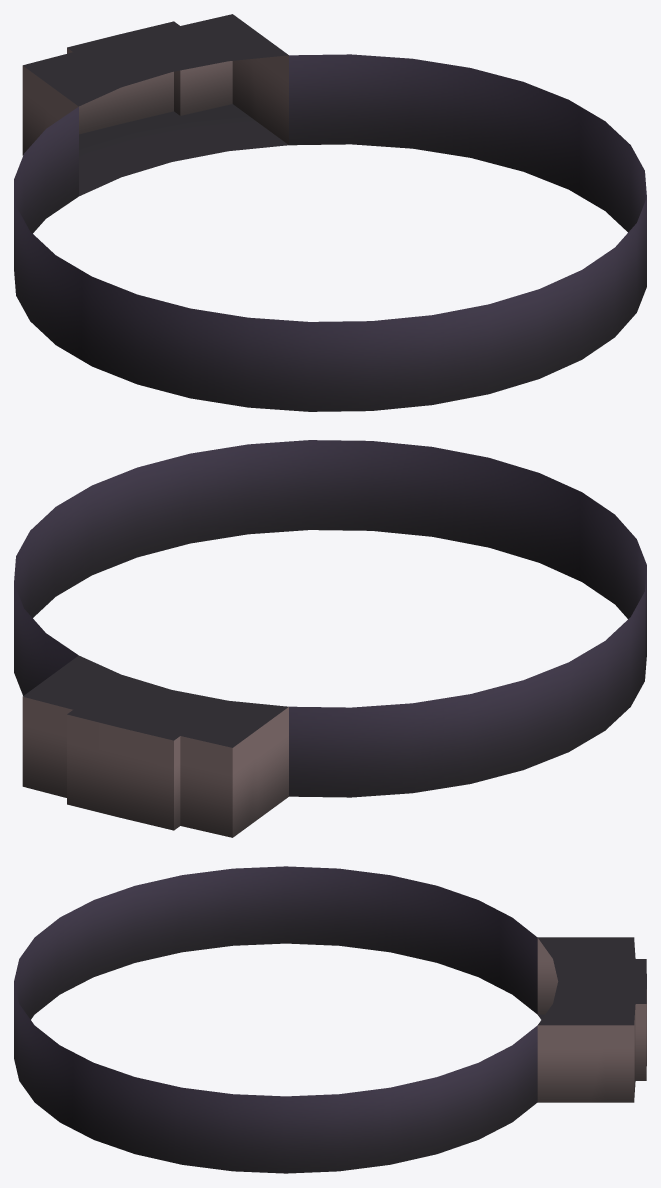
Rendered from ChunkEnd.glb.
3 renders of one model, top to bottom at view 1: azimuth 30°, elevation 25°; view 2: azimuth 150°, elevation 25°; view 3: azimuth 270°, elevation 25°, orthographic. The views are drawn at different scales.
Parts seen in each view (by area): view 1: ChunkEnd; view 2: ChunkEnd; view 3: ChunkEnd.
Part boxes in pixels (x1,y1,x2,y2): ChunkEnd: (14, 14, 646, 411); ChunkEnd: (14, 440, 646, 837); ChunkEnd: (14, 866, 646, 1173).
Size of what is drawn, in the model's own units: 69.14 by 10.82 by 80.42.
1 material, 1 textured.
